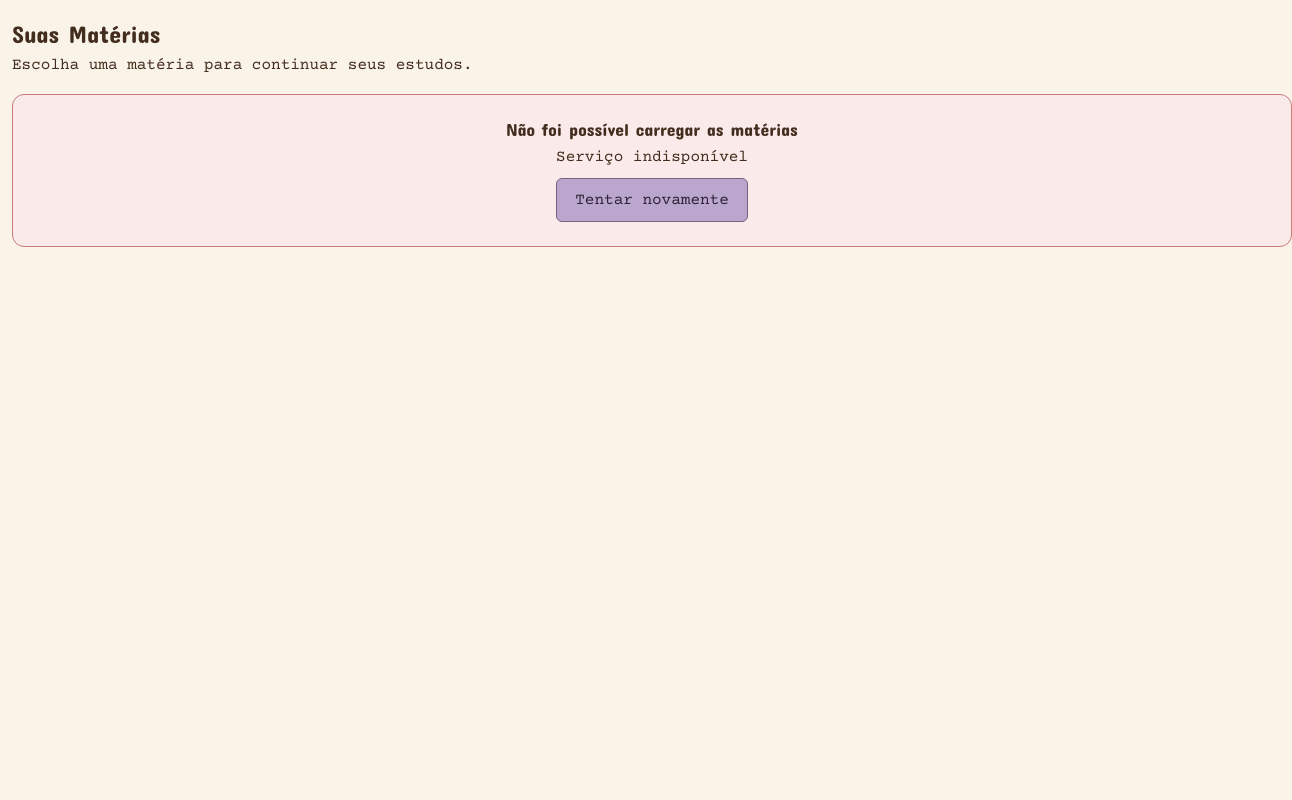
it: Matérias › mostra o erro e permite tentar novamente
Check: the message shows "Serviço indisponível", box [556,148,748,166]
Click the button "Tentar novamente": (652, 200) [556,178,748,222]
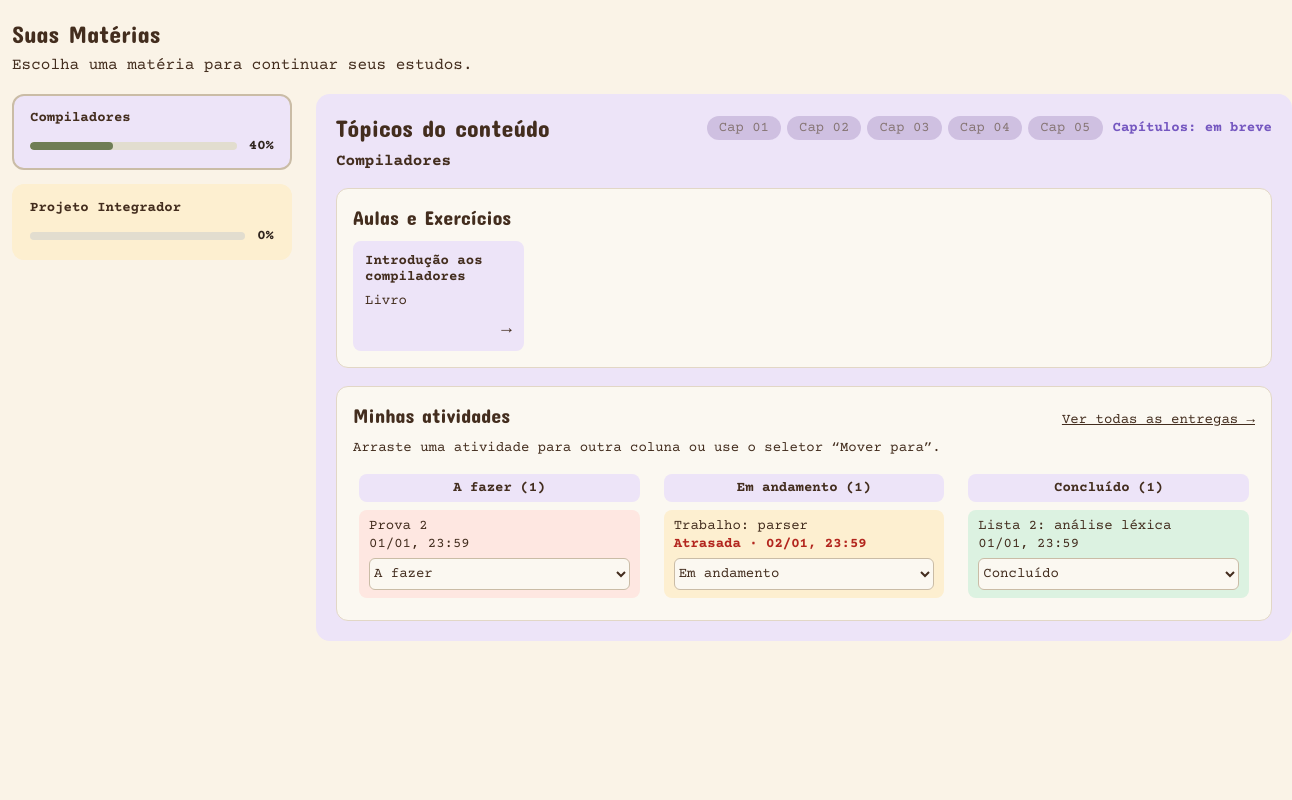
Check: the button "Compiladores 40%" is shown, box [12,94,292,170]
